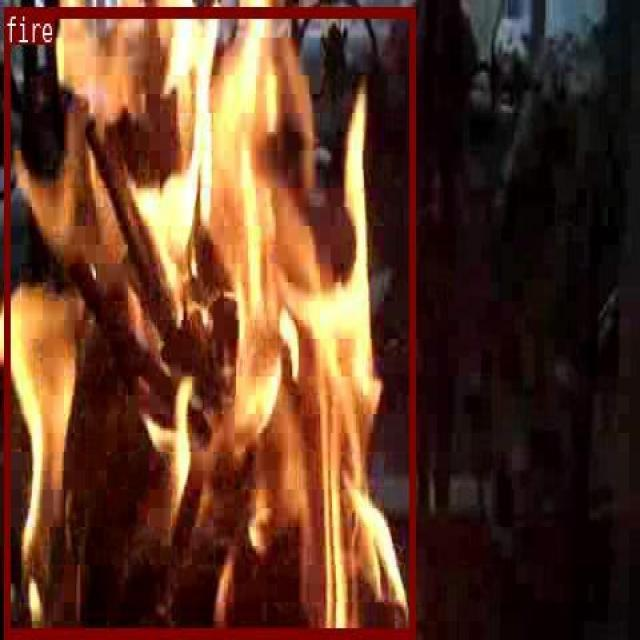fire: (3, 6, 413, 636)
